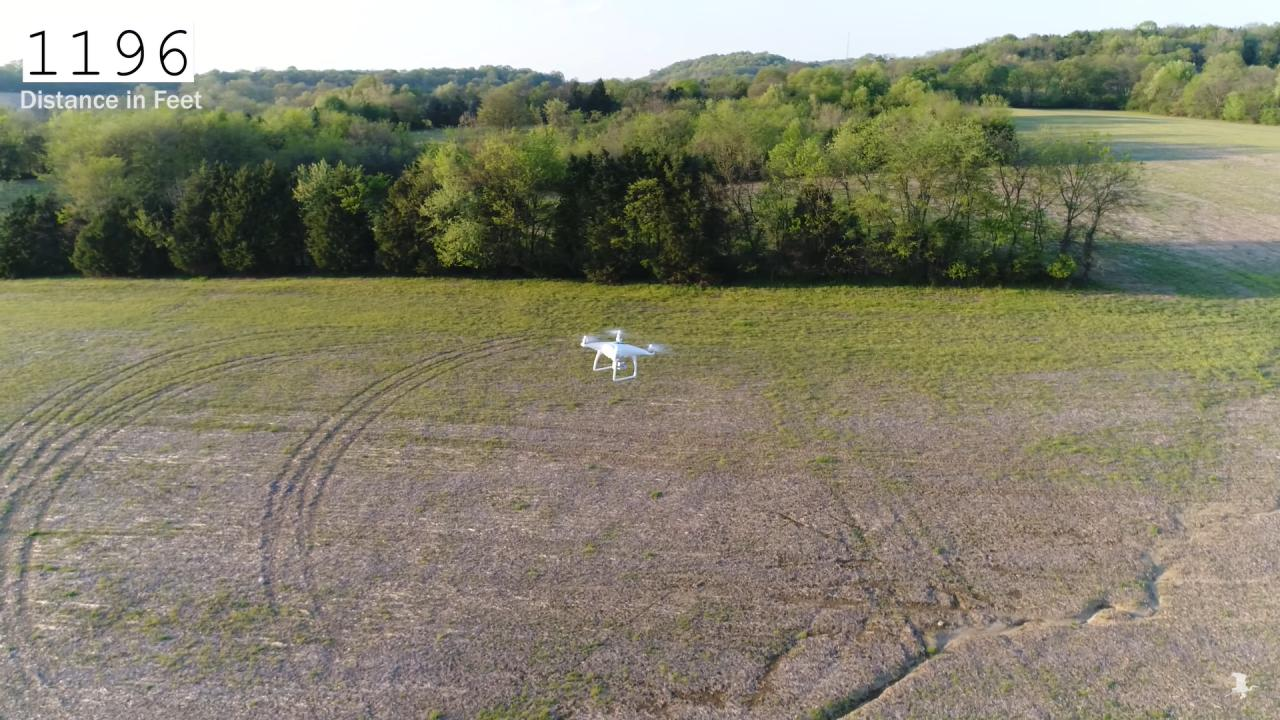Drone: (568, 318, 680, 394)
